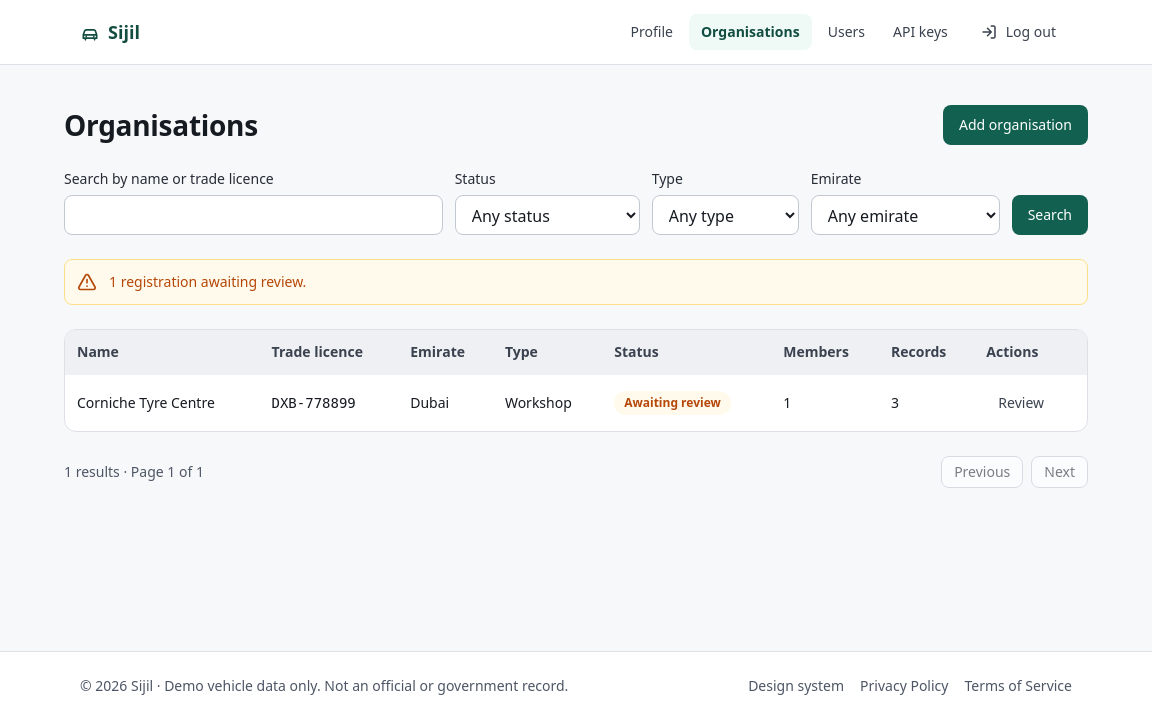
Test: admin: organisations › needs a reason to reject
The image size is (1152, 712).
Click the button with aria-label "Review Corniche Tyre Centre": point(1021, 403) [986,387,1056,419]
(page scrolled)
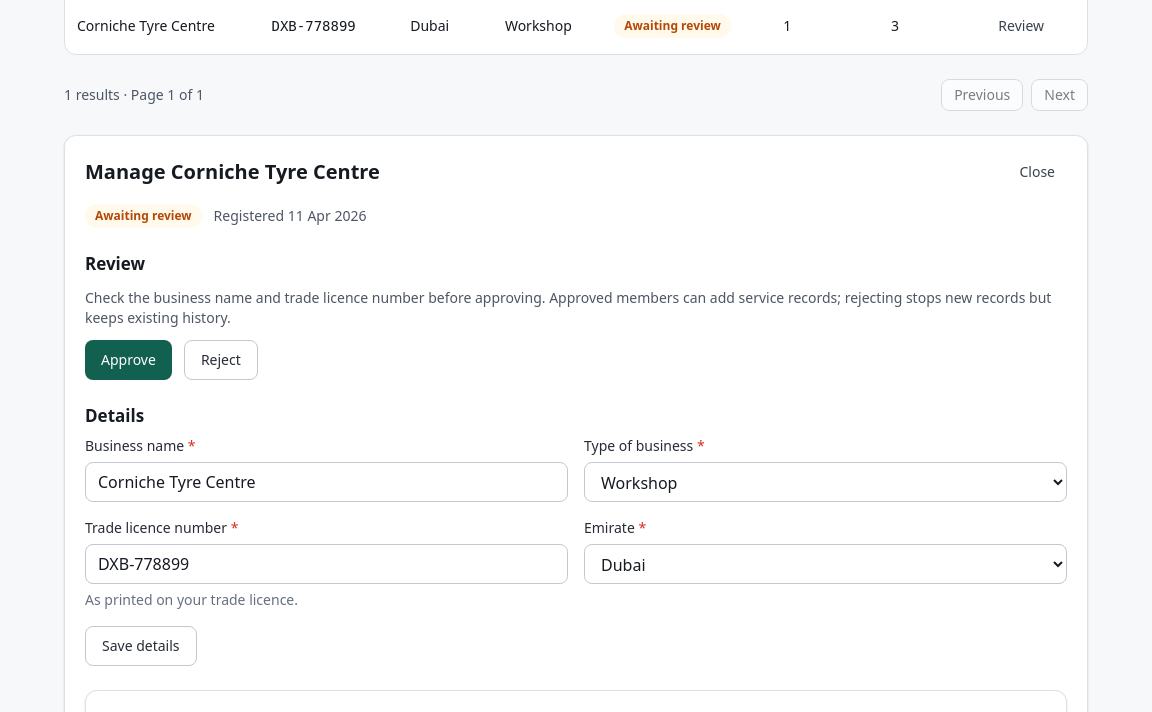
Click the button "Reject": point(221, 360) [184,340,258,380]
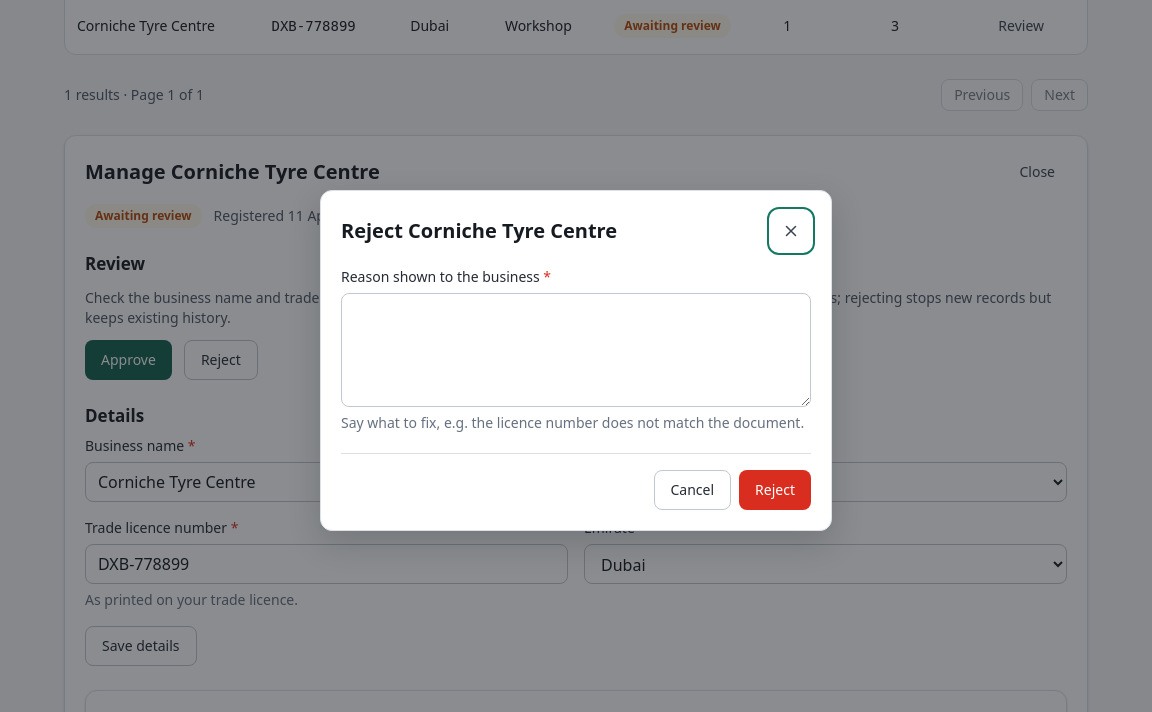
Click the button "Reject": point(775, 490) [739,470,811,510]
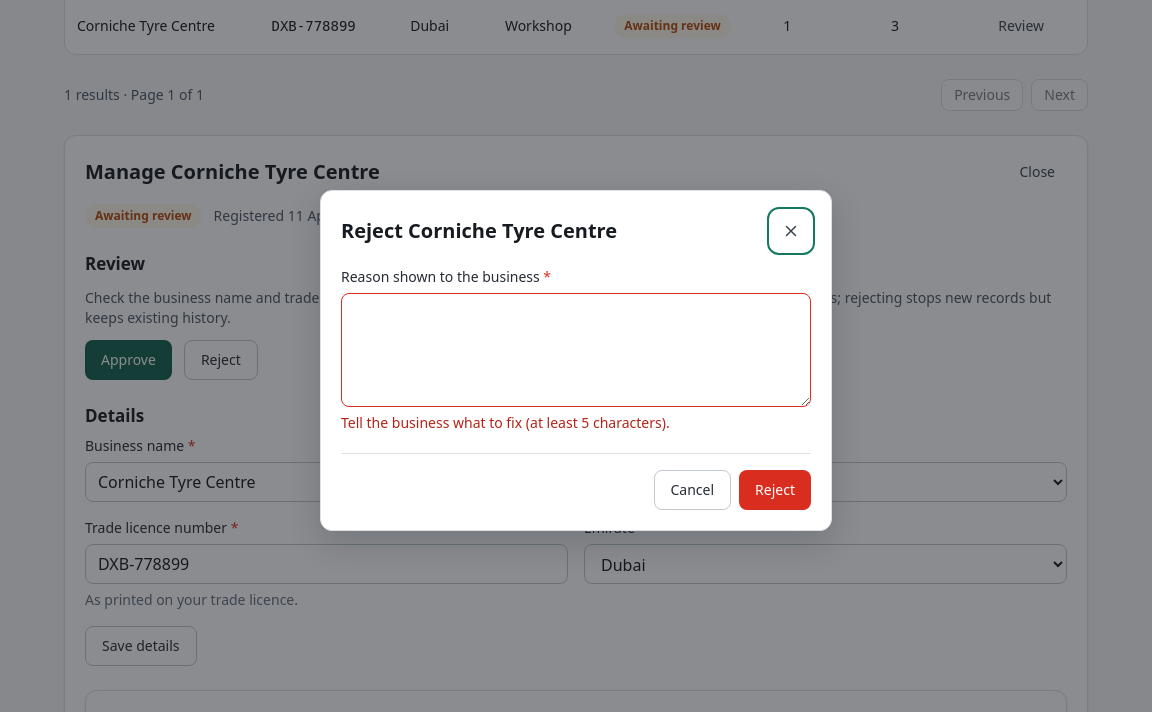
Expected: the text "Tell the business what to fix (at least 5 characters)." is shown, [341,412,670,432]
In the text box labelled "Reason shown to the business *": point(576, 350) [341,292,811,406], type "Licence has expired."
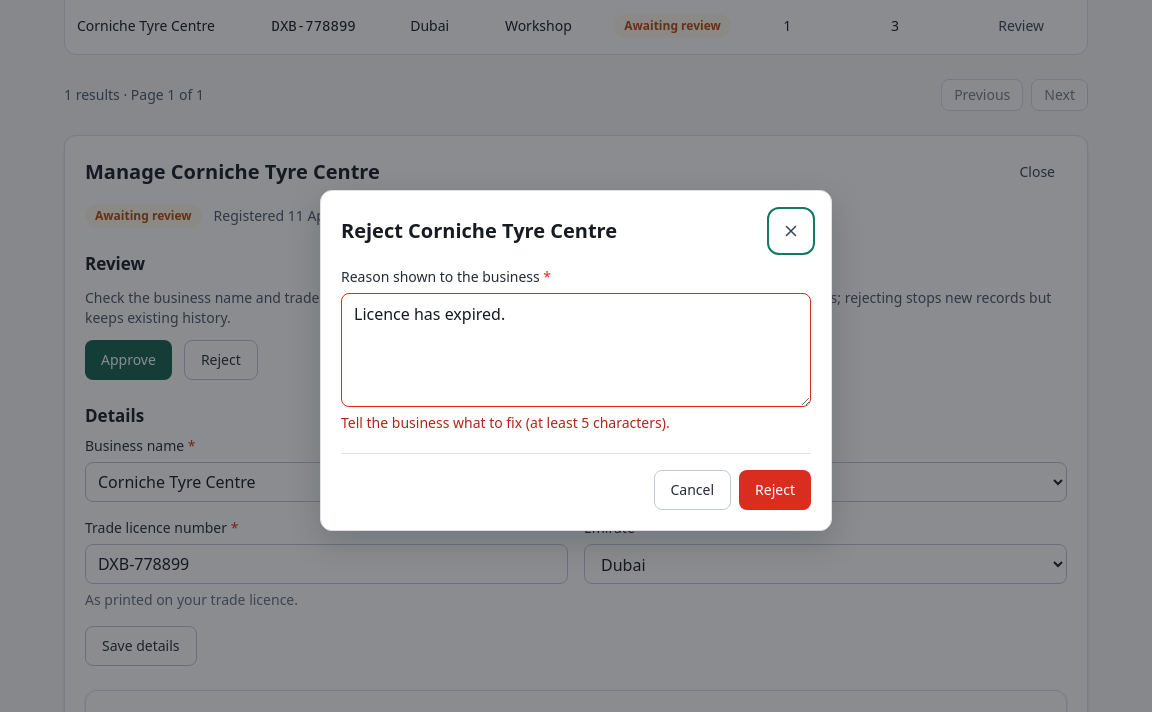
Click the button "Reject": point(775, 490) [739,470,811,510]
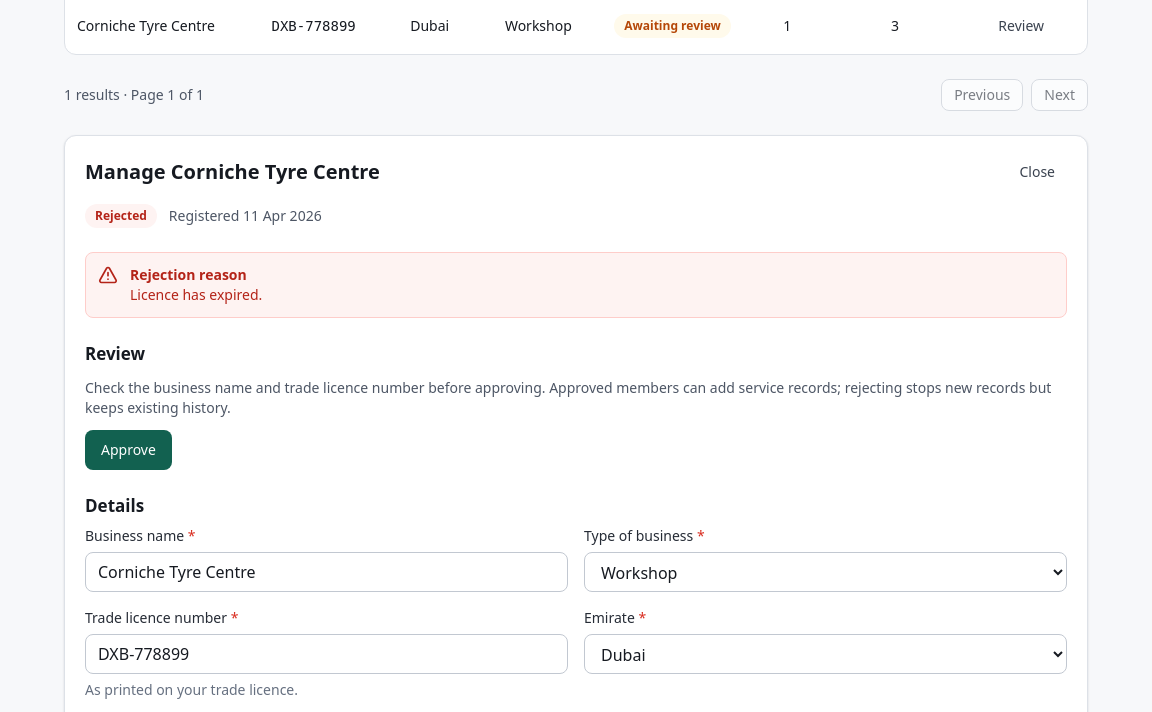
Expected: the message "Rejection reason Licence has expired." is shown, [85,252,1067,318]
Expected: the dialog is gone
